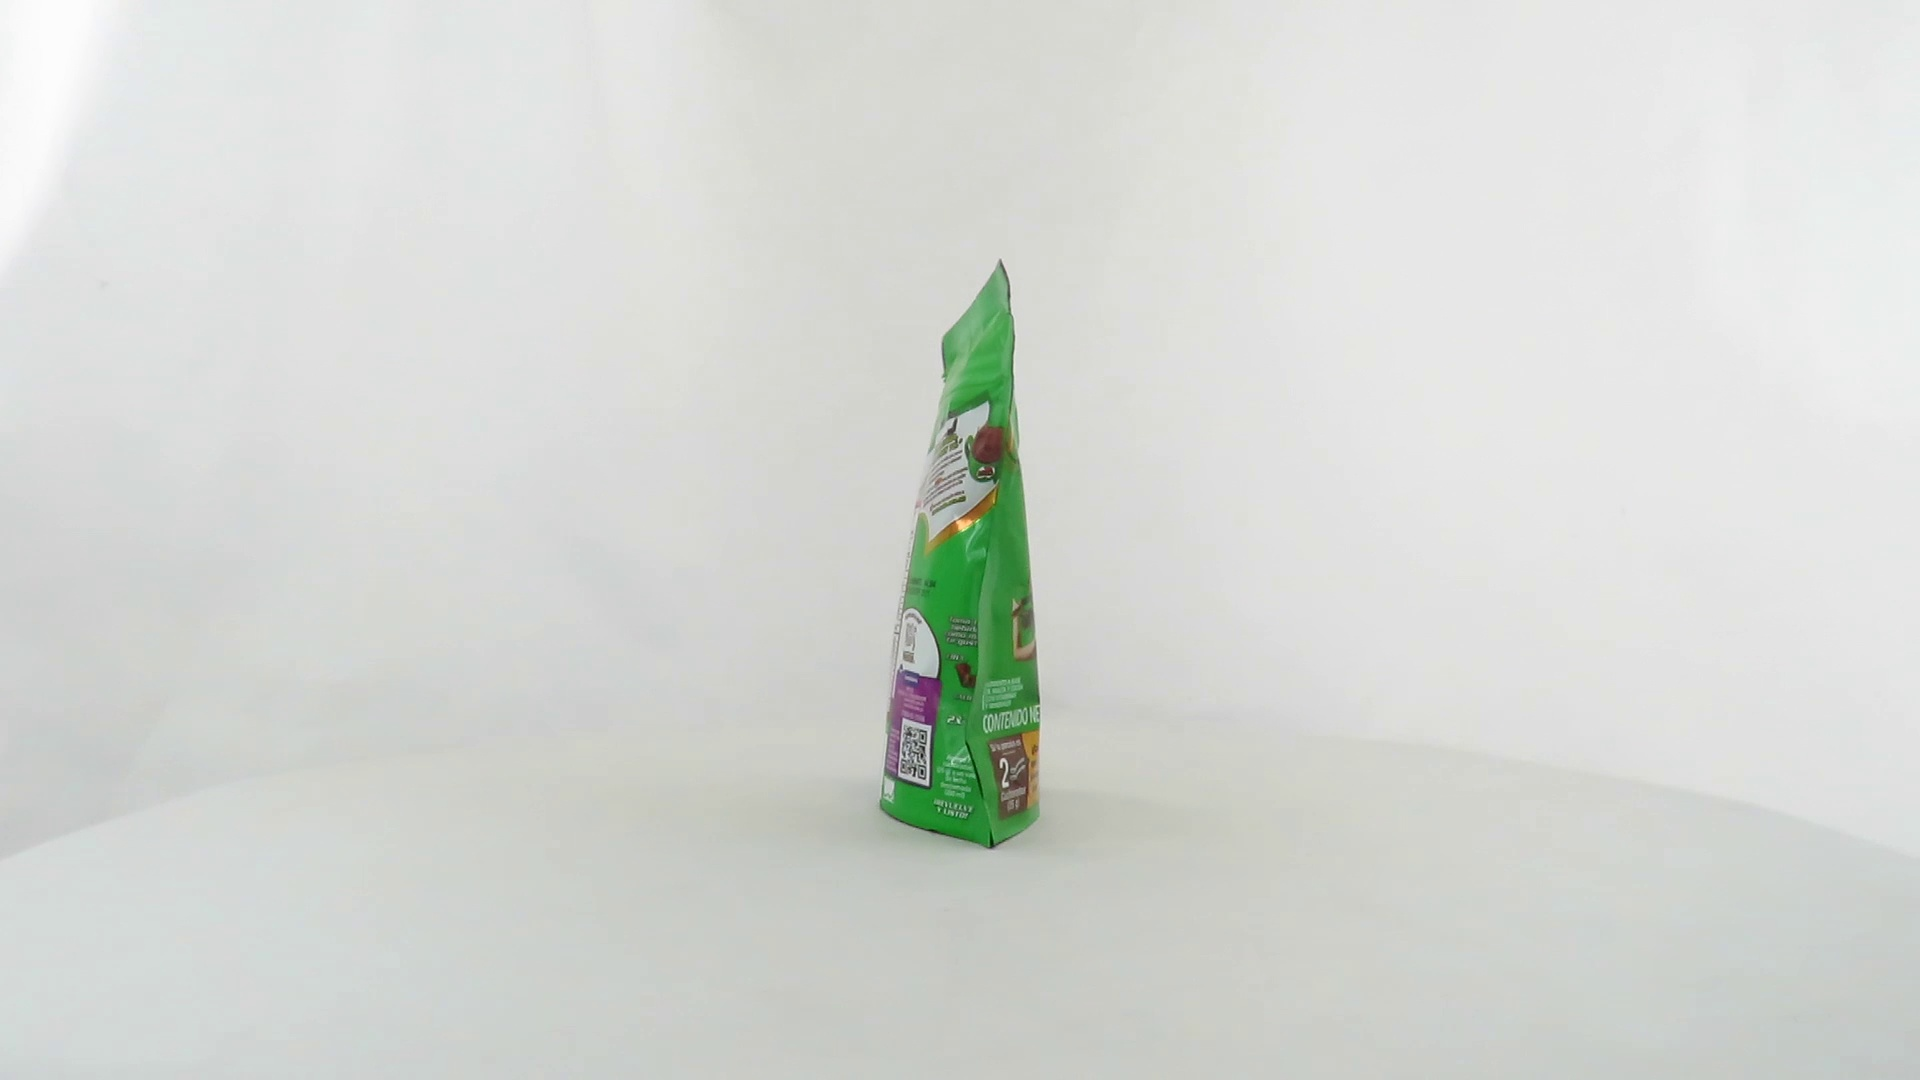COL0170203DYP10000: (874, 253, 1047, 855)
